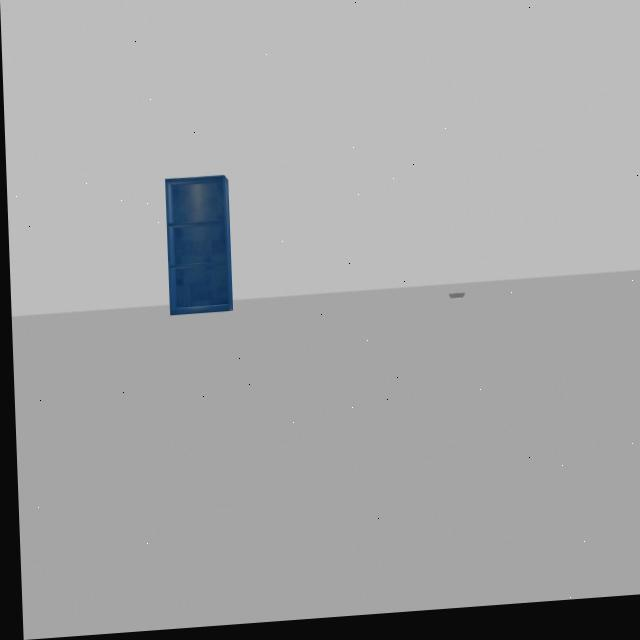bowl: (441, 290, 468, 316)
shelf: (153, 159, 241, 327)
